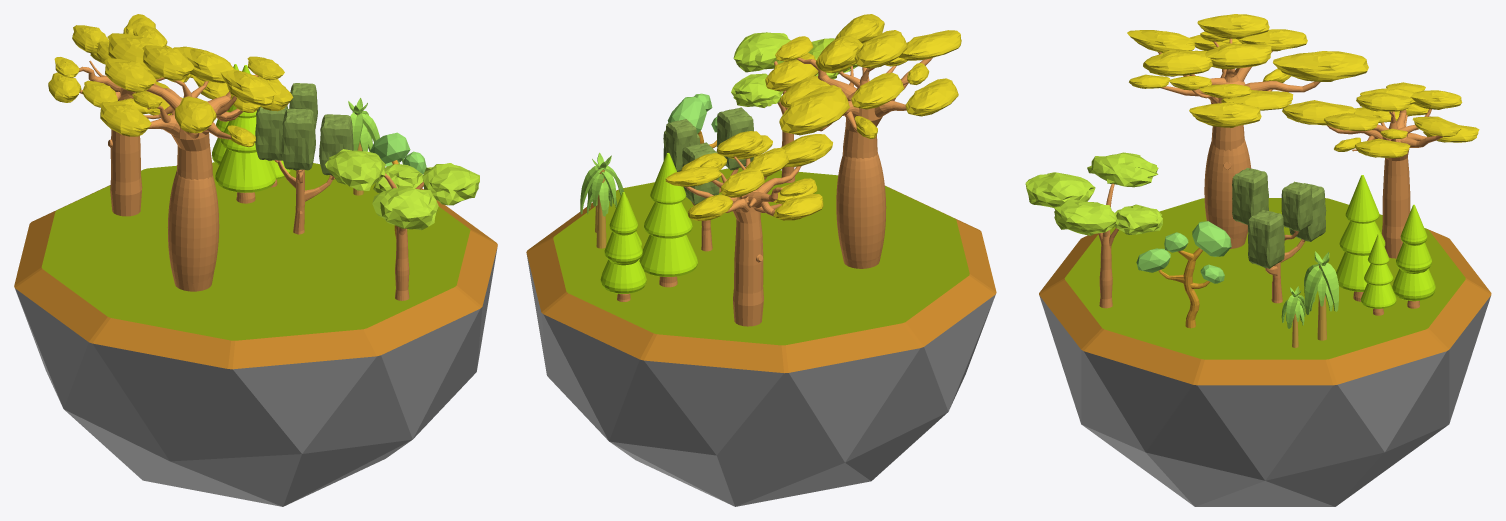
Rendered from low_poly_trees.glb.
3 views of the same model, side by side, from view 1: azimuth 30°, elevation 25°; view 2: azimuth 150°, elevation 25°; view 3: azimuth 270°, elevation 25° (orthographic). The views are drawn at different scales.
Parts seen in each view (by area): view 1: Object_4, Object_3, Object_2, Object_10, Object_15, Object_7, Object_5, Object_9, Object_11, Object_14, Object_13, Object_8 (+2 smaller); view 2: Object_4, Object_3, Object_2, Object_10, Object_15, Object_9, Object_11, Object_14, Object_7, Object_5, Object_17, Object_8 (+1 smaller); view 3: Object_4, Object_3, Object_2, Object_10, Object_11, Object_9, Object_7, Object_5, Object_15, Object_14, Object_8, Object_17 (+5 smaller).
Part boxes in pixels (x1=…): Object_4: x1=15, y1=246, x2=497, y2=506; Object_3: x1=41, y1=162, x2=470, y2=340; Object_2: x1=14, y1=185, x2=497, y2=369; Object_10: x1=99, y1=33, x2=293, y2=147; Object_15: x1=144, y1=74, x2=258, y2=291; Object_7: x1=325, y1=149, x2=479, y2=230; Object_5: x1=255, y1=83, x2=353, y2=175; Object_9: x1=48, y1=14, x2=192, y2=115; Object_11: x1=212, y1=64, x2=290, y2=192; Object_14: x1=79, y1=60, x2=165, y2=216; Object_13: x1=236, y1=173, x2=423, y2=300; Object_8: x1=370, y1=132, x2=426, y2=173; Object_4: x1=526, y1=254, x2=995, y2=506; Object_3: x1=553, y1=167, x2=969, y2=345; Object_2: x1=526, y1=185, x2=996, y2=373; Object_10: x1=765, y1=14, x2=961, y2=138; Object_15: x1=796, y1=57, x2=932, y2=268; Object_9: x1=665, y1=131, x2=832, y2=220; Object_11: x1=600, y1=153, x2=697, y2=293; Object_14: x1=685, y1=156, x2=801, y2=326; Object_7: x1=731, y1=32, x2=857, y2=107; Object_5: x1=663, y1=107, x2=753, y2=204; Object_17: x1=580, y1=152, x2=623, y2=216; Object_8: x1=667, y1=93, x2=717, y2=133; Object_4: x1=1039, y1=295, x2=1490, y2=506; Object_3: x1=1064, y1=198, x2=1465, y2=359; Object_2: x1=1039, y1=229, x2=1491, y2=385; Object_10: x1=1127, y1=14, x2=1368, y2=127; Object_11: x1=1336, y1=175, x2=1435, y2=308; Object_9: x1=1282, y1=82, x2=1479, y2=157; Object_7: x1=1025, y1=152, x2=1162, y2=235; Object_5: x1=1232, y1=168, x2=1326, y2=268; Object_15: x1=1158, y1=38, x2=1320, y2=248; Object_14: x1=1327, y1=109, x2=1442, y2=258; Object_8: x1=1136, y1=221, x2=1231, y2=283; Object_17: x1=1304, y1=251, x2=1338, y2=314.
Size of the model in its own units: 2.81 by 3.11 by 3.03.
